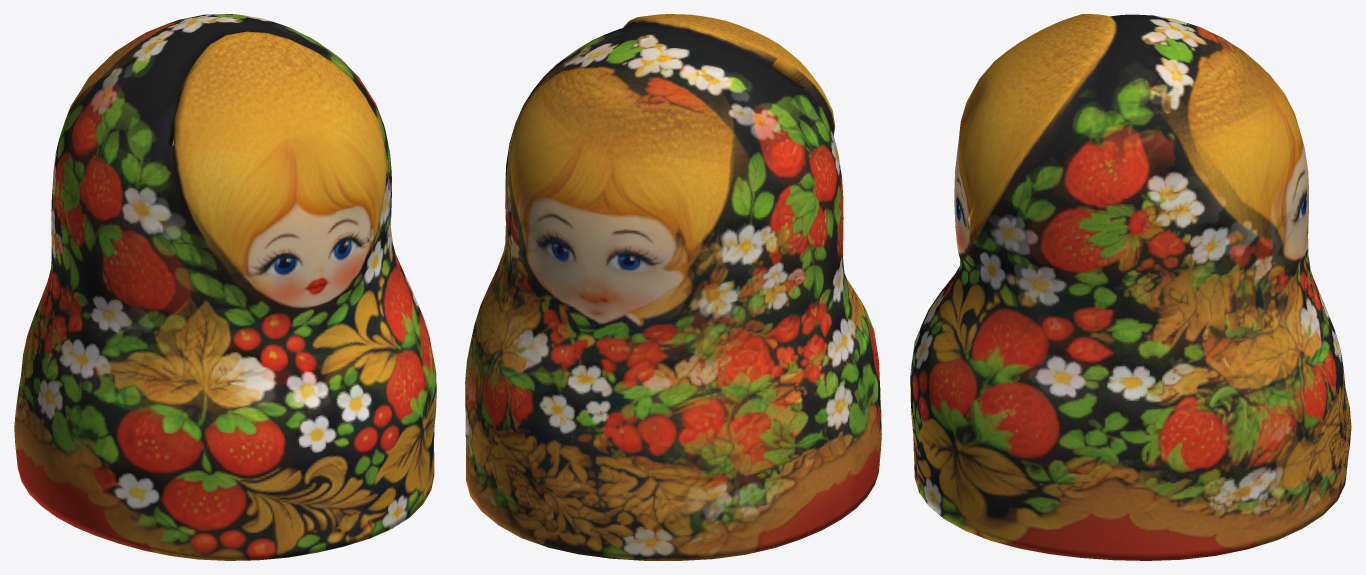
The model's file is MatroSicaFirstHead.fbx.
3 renders of one model, left to right at view 1: azimuth 30°, elevation 25°; view 2: azimuth 150°, elevation 25°; view 3: azimuth 270°, elevation 25°, orthographic.
Parts seen in each view (by area): view 1: BiggestOneHead; view 2: BiggestOneHead; view 3: BiggestOneHead.
Boxes of the visible parts, bbox=[...] form: BiggestOneHead: bbox=[14, 14, 436, 560]; BiggestOneHead: bbox=[465, 14, 881, 560]; BiggestOneHead: bbox=[910, 14, 1351, 560].
Size of the model in its own units: 31.72 by 37.87 by 33.54.
Materials: 1 (1 with a texture image).
